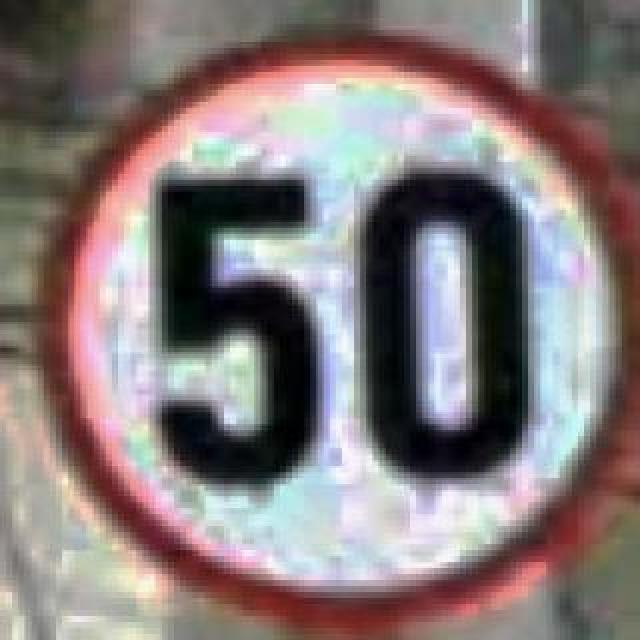50 kph: (32, 6, 622, 622)
